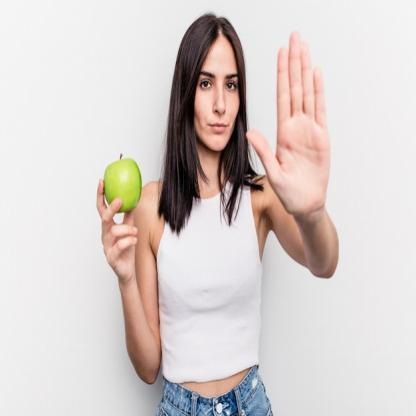stop: (245, 33, 342, 219)
